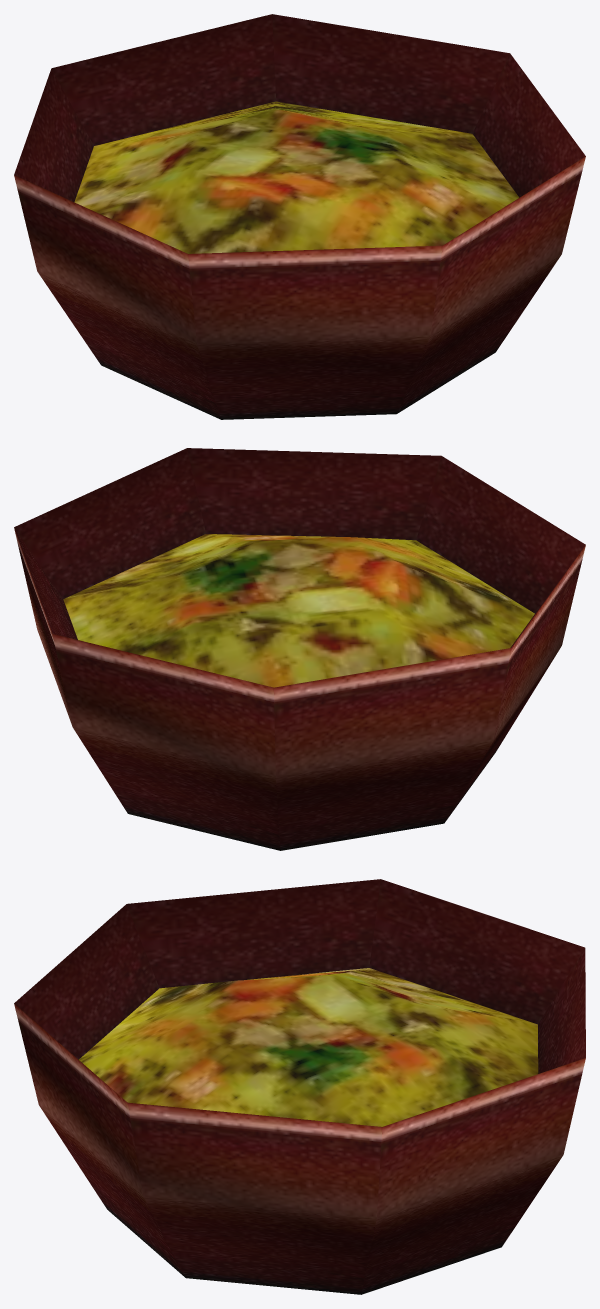
Rendered from ITFO_STEW_03.glb.
The picture shows the model from 3 angles, top to bottom: view 1: azimuth 30°, elevation 25°; view 2: azimuth 150°, elevation 25°; view 3: azimuth 270°, elevation 25°; orthographic projection. The views are drawn at different scales.
Parts seen in each view (by area): view 1: Mesh; view 2: Mesh; view 3: Mesh.
Part boxes in pixels (x1=…): Mesh: x1=14, y1=14, x2=585, y2=419; Mesh: x1=14, y1=448, x2=585, y2=850; Mesh: x1=14, y1=879, x2=585, y2=1294.
Size of the model in its own units: 0.3219 by 0.131 by 0.314.
Materials: 2 (2 with a texture image).
